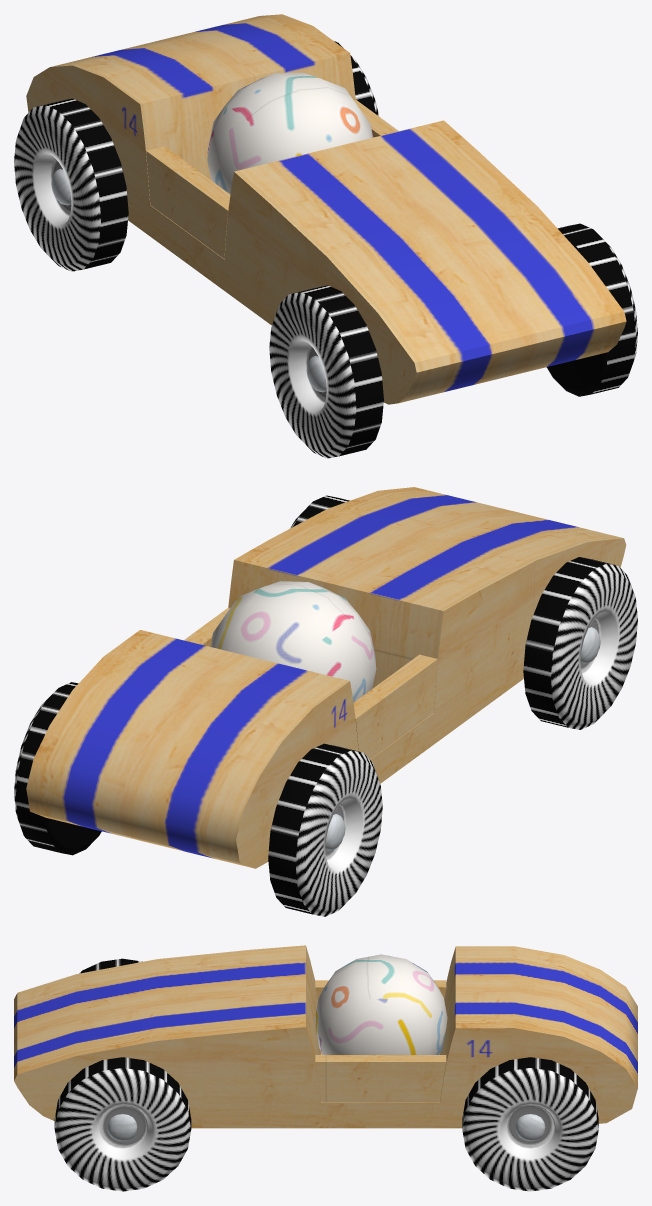
File: SK_Car.fbx
3 views of the same model, one above another, from view 1: azimuth 30°, elevation 25°; view 2: azimuth 150°, elevation 25°; view 3: azimuth 270°, elevation 25° (orthographic). The views are drawn at different scales.
Parts seen in each view (by area): view 1: carBody, wheelA, wheelB, ball, wheelC, doorA, wheelD; view 2: carBody, wheelA, wheelB, ball, doorA, wheelD, wheelC; view 3: carBody, wheelD, wheelC, ball, doorB, pegC, pegD, wheelA.
Part boxes in pixels (bbox=[...]): carBody: bbox=[26, 14, 626, 404]; wheelA: bbox=[269, 285, 383, 458]; wheelB: bbox=[14, 98, 128, 271]; ball: bbox=[207, 72, 373, 194]; wheelC: bbox=[546, 223, 637, 396]; doorA: bbox=[146, 146, 230, 258]; wheelD: bbox=[333, 40, 379, 116]; carBody: bbox=[26, 487, 626, 868]; wheelA: bbox=[523, 557, 637, 729]; wheelB: bbox=[268, 743, 382, 916]; ball: bbox=[210, 581, 376, 702]; doorA: bbox=[353, 654, 437, 759]; wheelD: bbox=[14, 682, 101, 855]; wheelC: bbox=[290, 495, 349, 528]; carBody: bbox=[14, 945, 637, 1128]; wheelD: bbox=[462, 1057, 598, 1191]; wheelC: bbox=[54, 1057, 191, 1191]; ball: bbox=[314, 954, 447, 1054]; doorB: bbox=[315, 1055, 446, 1102]; pegC: bbox=[107, 1114, 137, 1141]; pegD: bbox=[515, 1114, 545, 1141]; wheelA: bbox=[79, 958, 142, 973].
Size of the model in its own units: 8.06 by 5.74 by 18.51.
